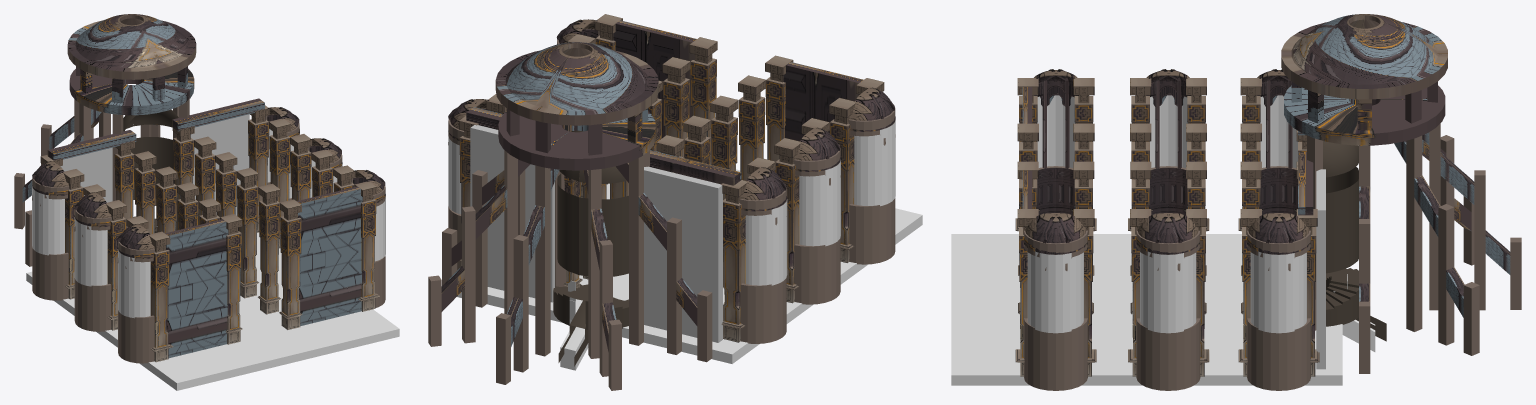
The model's file is new top bastion.fbx.
The picture shows the model from 3 angles, left to right: view 1: azimuth 30°, elevation 25°; view 2: azimuth 150°, elevation 25°; view 3: azimuth 270°, elevation 25°; orthographic projection. The views are drawn at different scales.
Parts seen in each view (by area): view 1: Cube.090, Cube.089, chamber.001, Cube.064, Circle.031, Cube.123, Cube.088, Circle.024, Circle.022, Circle.026, Circle.025, Circle.023 (+20 smaller); view 2: Circle.031, chamber.001, Cube.123, Cube.090, Cube.089, back_windows, Cube.064, Circle.024, Circle.022, Circle.026, Cube.079, Circle.023 (+17 smaller); view 3: Cube.064, chamber.001, Circle.031, Cube.090, Circle.018, Circle.016, Circle.020, Circle.021, Circle.017, Circle.019, back_windows, Circle.026 (+24 smaller).
Boxes of the visible parts, x1,y1,x2,y2 form: Cube.090: (114, 126, 302, 344); Cube.089: (165, 186, 362, 358); chamber.001: (67, 14, 196, 115); Cube.064: (26, 232, 399, 390); Circle.031: (14, 84, 189, 266); Cube.123: (60, 114, 249, 215); Cube.088: (149, 231, 173, 362); Circle.024: (74, 209, 111, 331); Circle.022: (32, 177, 69, 300); Circle.026: (117, 240, 154, 363); Circle.025: (74, 217, 107, 286); Circle.023: (32, 186, 64, 255); Circle.031: (428, 150, 712, 390); chamber.001: (495, 42, 658, 170); Cube.123: (470, 125, 722, 342); Cube.090: (563, 37, 793, 300); Cube.089: (613, 20, 863, 152); back_windows: (557, 130, 628, 276); Cube.064: (457, 169, 922, 363); Circle.024: (793, 144, 840, 304); Circle.022: (740, 184, 786, 343); Circle.026: (848, 104, 895, 264); Cube.079: (721, 180, 747, 342); Circle.023: (745, 199, 787, 285); Cube.064: (951, 234, 1342, 385); chamber.001: (1281, 14, 1447, 145); Circle.031: (1307, 123, 1521, 373); Cube.090: (1017, 123, 1306, 328); Circle.018: (1136, 230, 1200, 390); Circle.016: (1247, 230, 1310, 390); Circle.020: (1024, 230, 1087, 390); Circle.021: (1027, 251, 1083, 333); Circle.017: (1250, 251, 1306, 333); Circle.019: (1140, 251, 1196, 333); back_windows: (1323, 141, 1358, 273); Circle.026: (1033, 80, 1078, 215).
Bounding box in the file's own units: 8155 × 7426 × 11827.
